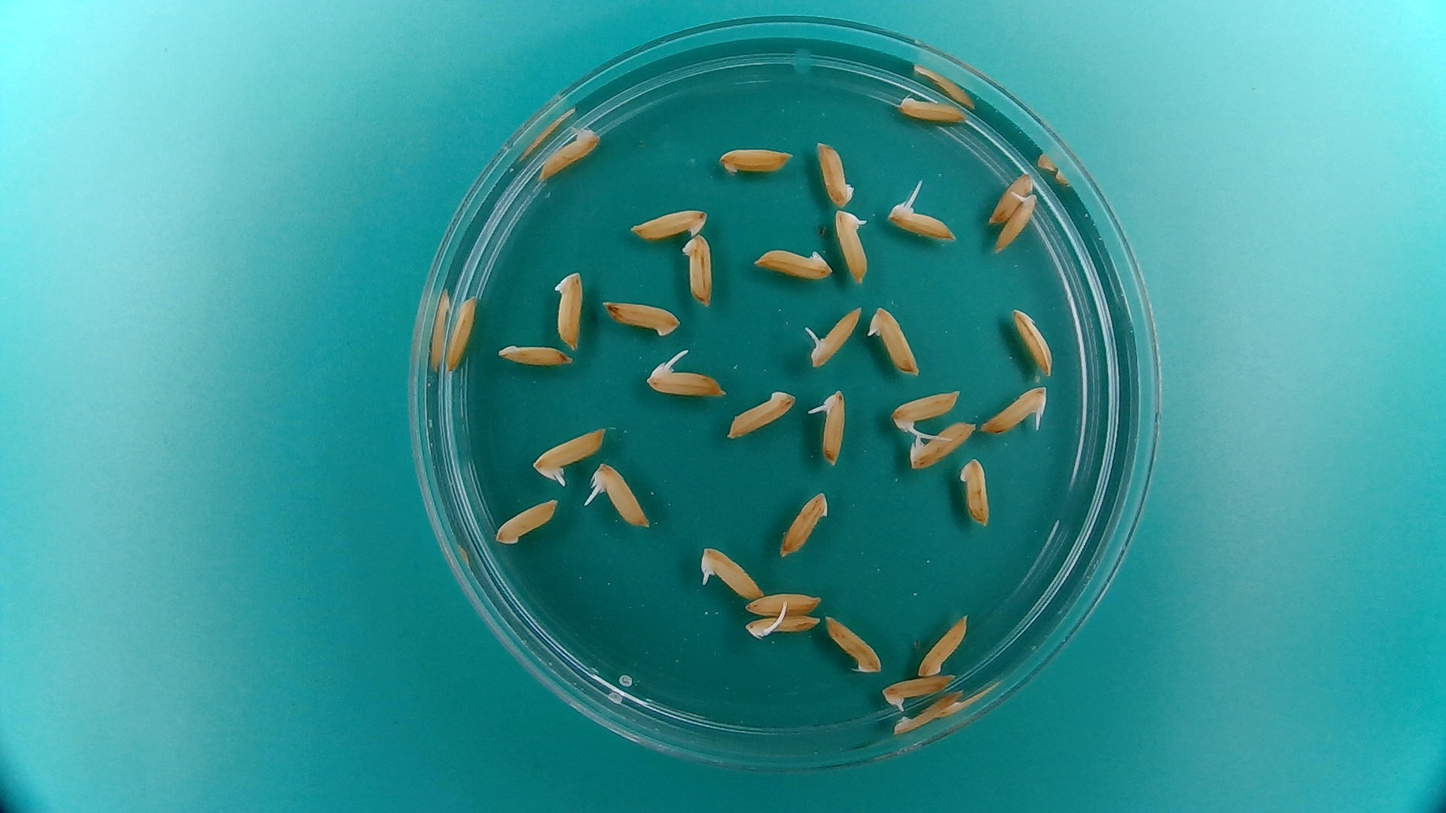no: (866, 301, 923, 378), (724, 385, 800, 442), (822, 613, 885, 676), (777, 487, 831, 559), (596, 298, 687, 340), (916, 611, 972, 678), (1008, 302, 1057, 378), (905, 422, 979, 472), (749, 241, 835, 282), (493, 496, 560, 547), (625, 202, 711, 241), (713, 140, 798, 178), (813, 138, 858, 209), (551, 266, 587, 353), (679, 230, 718, 309), (443, 291, 480, 373), (985, 170, 1040, 222), (957, 454, 994, 529), (893, 89, 972, 123), (493, 337, 575, 369), (743, 590, 825, 616)
yes: (586, 459, 654, 531), (533, 423, 606, 481), (697, 544, 767, 601), (810, 302, 865, 368), (536, 123, 600, 179), (831, 205, 873, 289), (977, 388, 1047, 438), (993, 189, 1041, 254), (884, 203, 960, 243), (880, 672, 956, 711), (642, 365, 724, 400), (741, 609, 822, 641), (891, 389, 958, 427), (816, 386, 848, 464)
